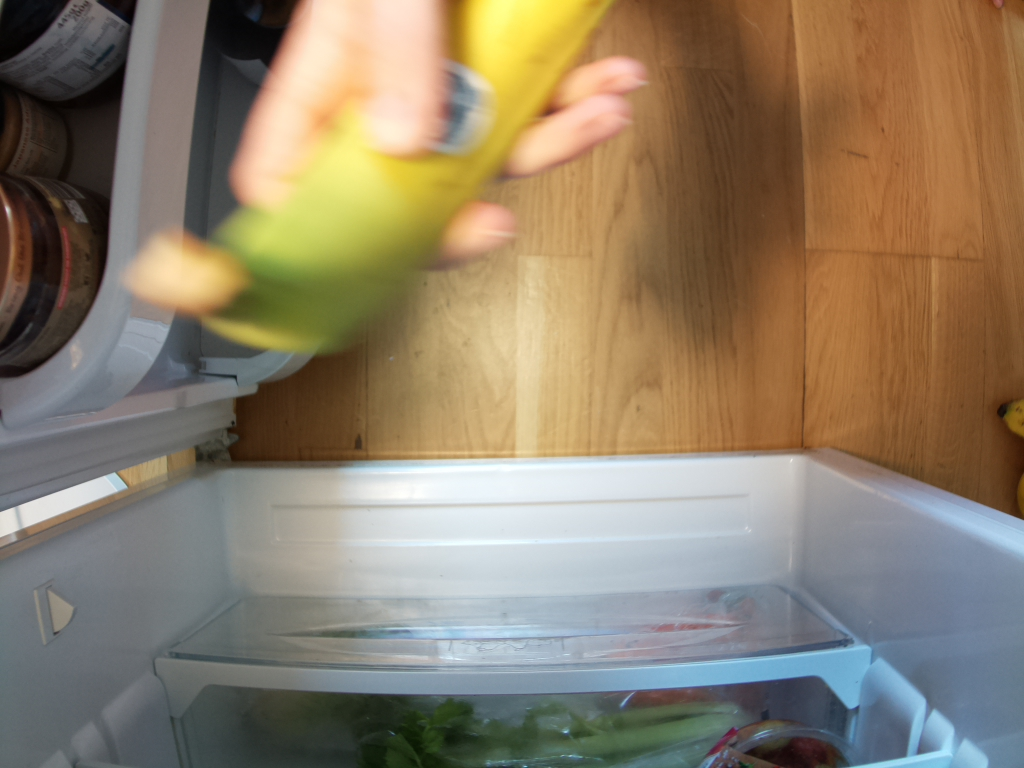banana-unripe: (124, 1, 622, 359)
